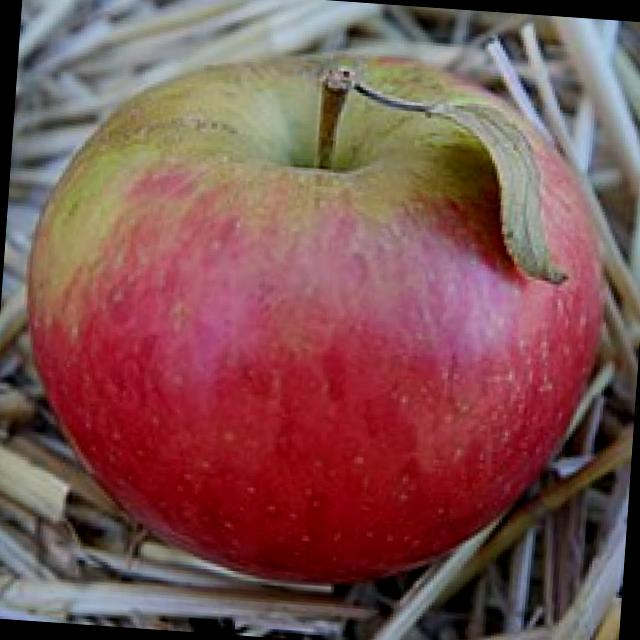apple: (0, 29, 615, 615)
